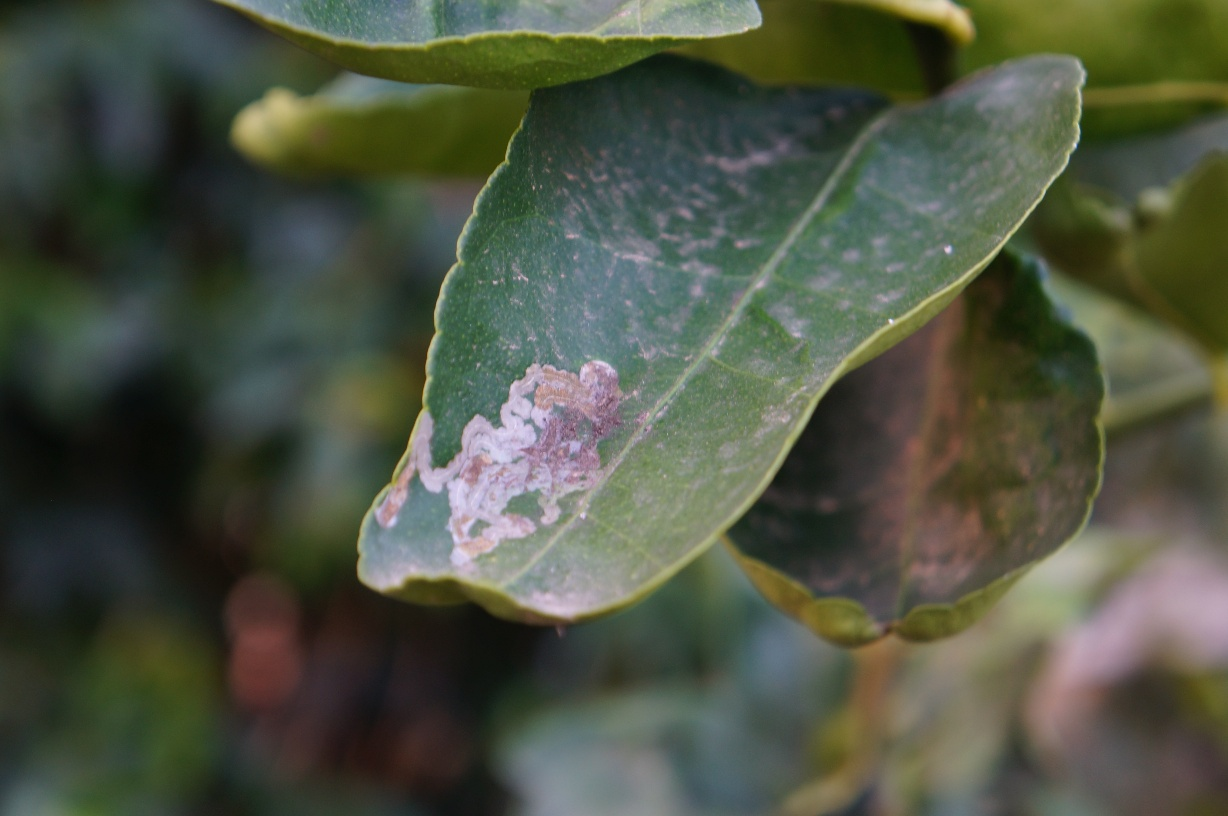damage: (363, 343, 631, 580)
